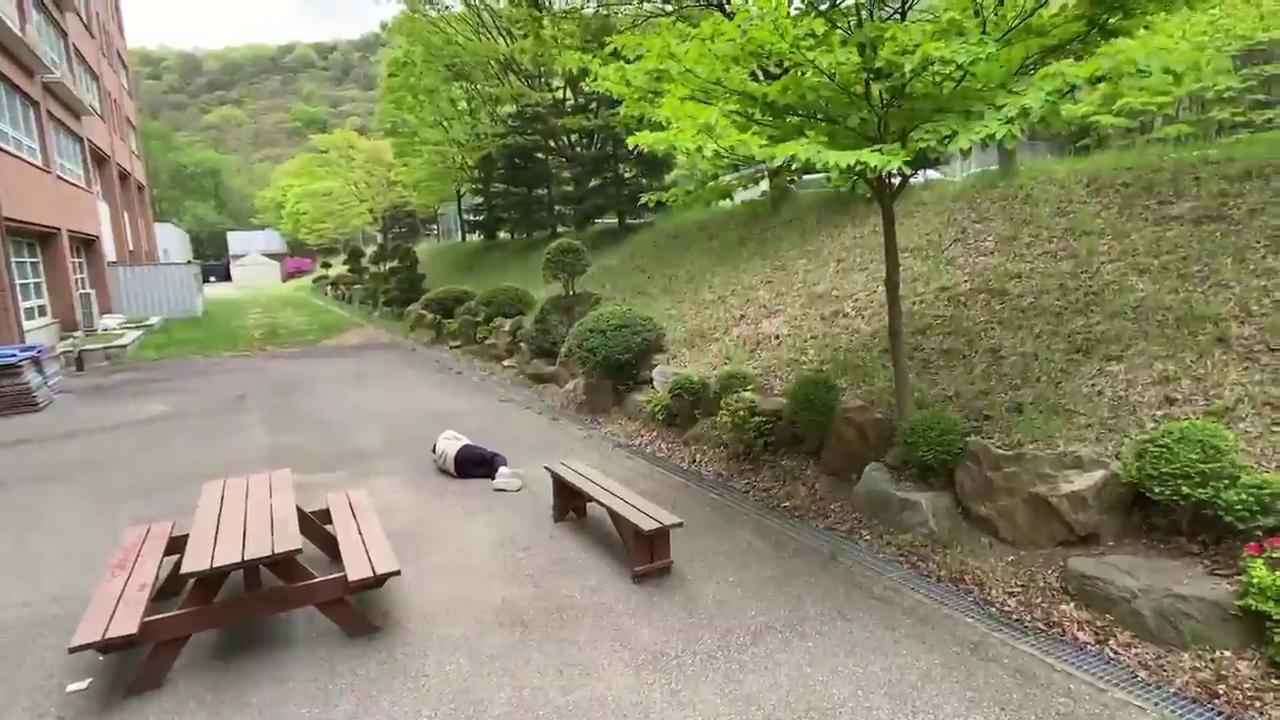faint: (425, 428, 523, 491)
